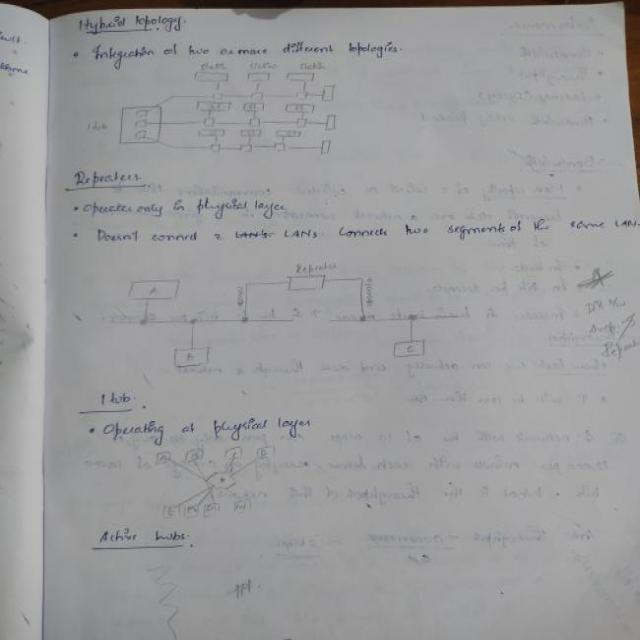Figure Detection - v3 Dataset Version2: (96, 251, 483, 380), (79, 58, 354, 164), (144, 444, 294, 526)
